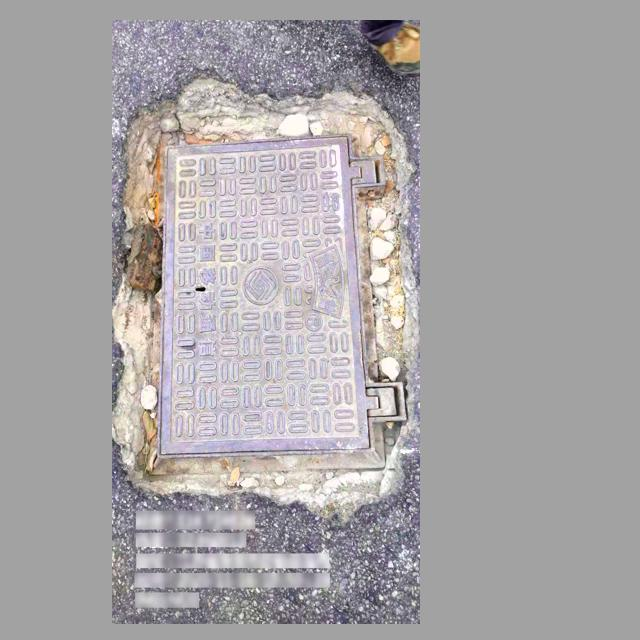circle: (127, 108, 410, 496)
